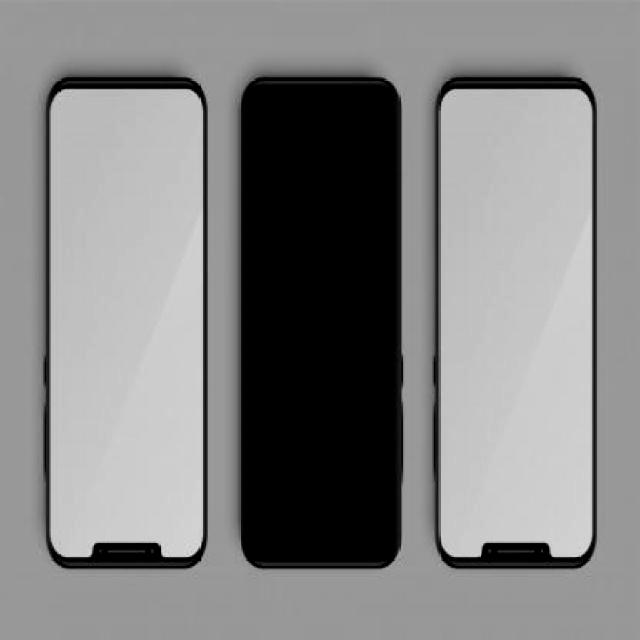fake: (238, 74, 404, 572), (434, 74, 598, 572), (46, 76, 208, 572)
